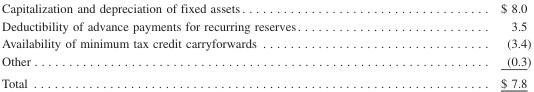table: (1, 0, 530, 89)
table column: (1, 0, 399, 89), (399, 0, 530, 89)
table row: (1, 51, 530, 71), (1, 16, 530, 34), (1, 71, 530, 89), (1, 34, 530, 51), (1, 0, 530, 16)
